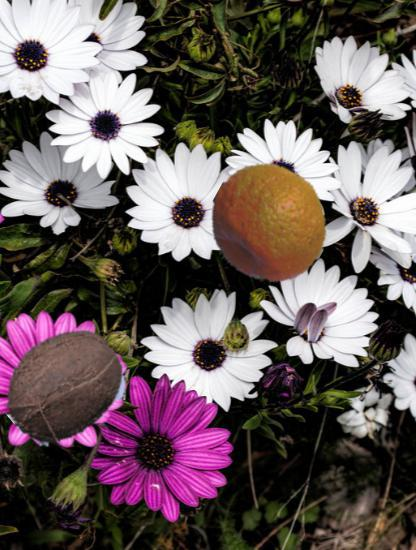Cocos: (3, 325, 130, 452)
Mandarine: (209, 163, 330, 284)
